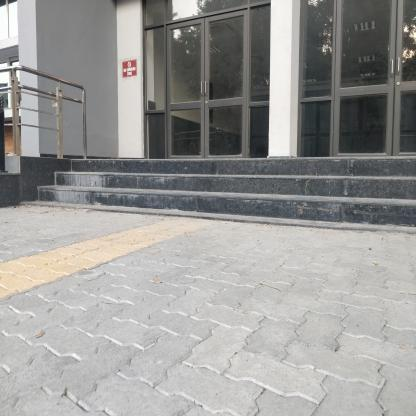stairs: (74, 159, 405, 229)
